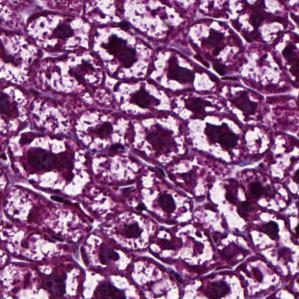inflammation: (184, 111, 248, 166), (92, 24, 151, 79), (74, 107, 129, 151)
